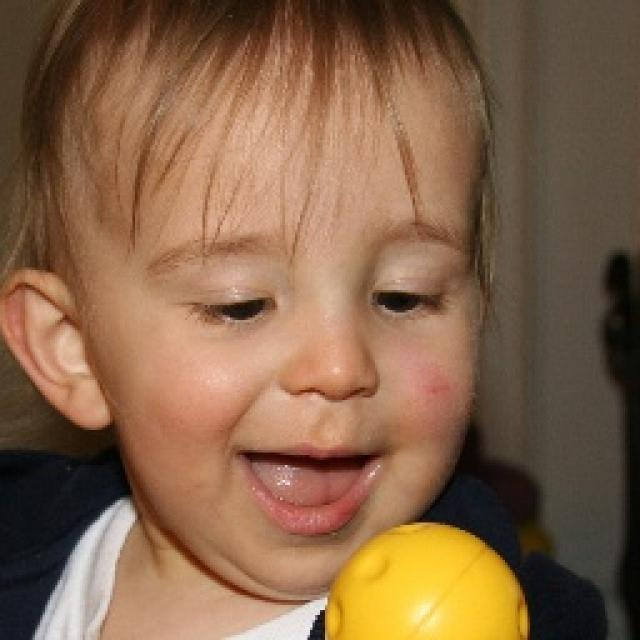earlobe: (53, 395, 112, 430)
eye: (179, 291, 287, 322), (364, 284, 447, 320)
nose: (286, 386, 378, 438)
wholeear: (0, 268, 112, 430)
